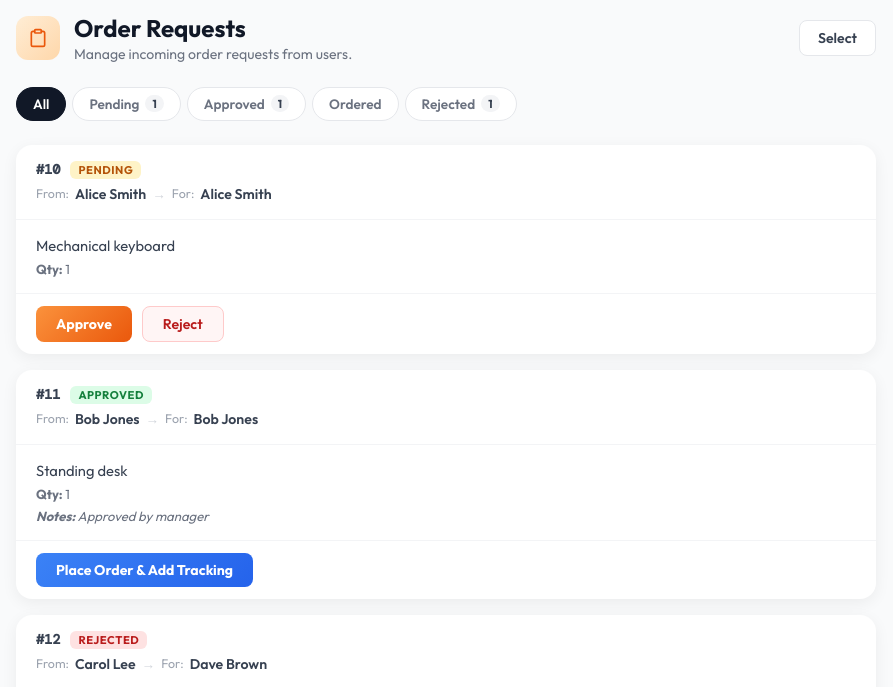
Test: Status filter bar › clicking Approved shows only approved requests
This screenshot has width=893, height=687.
Click the button "Approved 1": point(246, 104) [187,87,306,121]
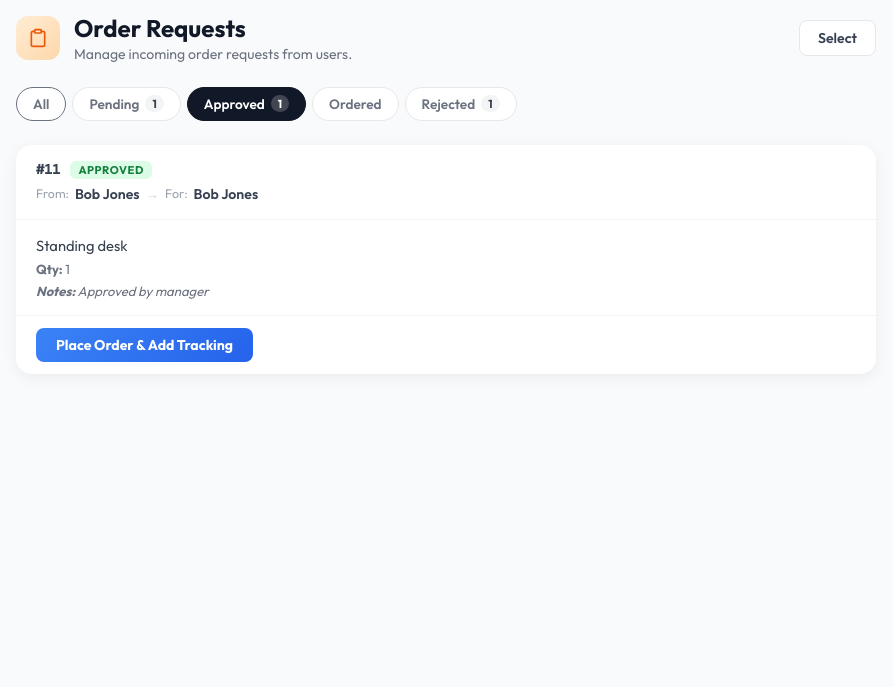
Expected: the text "Standing desk" is shown, [36,236,128,255]
Expected: the text "Mechanical keyboard" is gone
